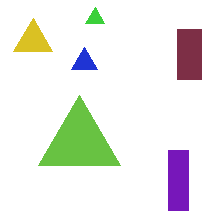rectangle: (168, 150, 188, 210), (177, 29, 201, 79)
triangle: (38, 95, 120, 165), (13, 18, 52, 51), (71, 47, 97, 69), (85, 7, 104, 23)
